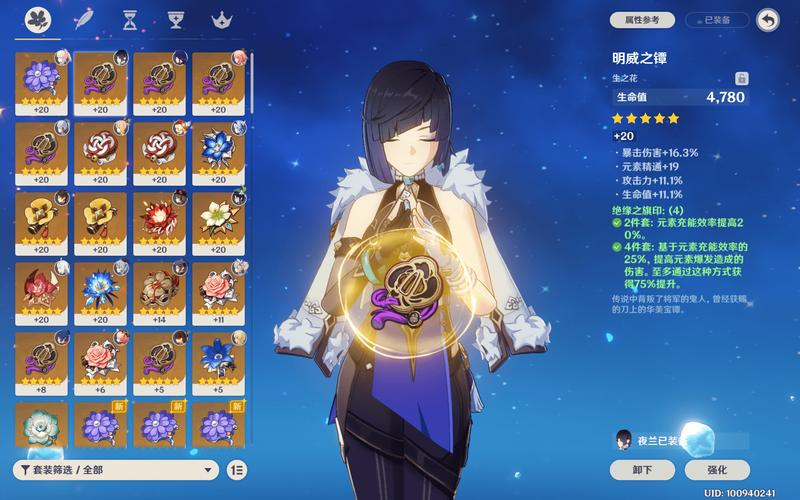夜兰: (309, 57, 510, 498)
